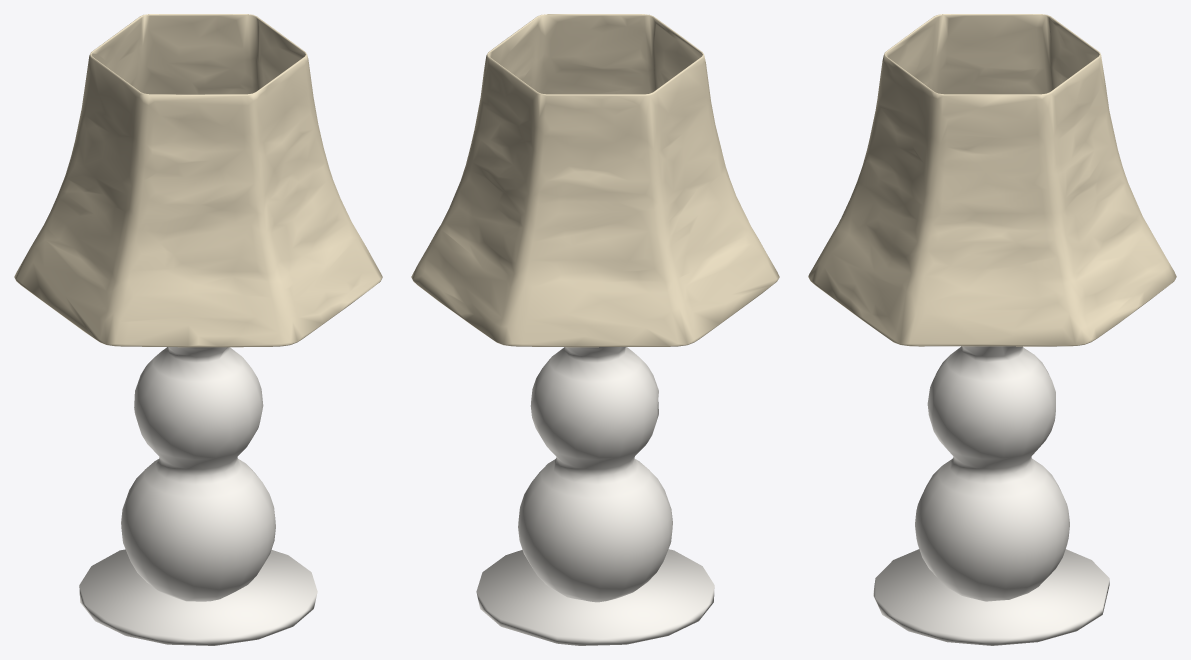
File: lamp.glb
3 views of the same model, side by side, from view 1: azimuth 30°, elevation 25°; view 2: azimuth 150°, elevation 25°; view 3: azimuth 270°, elevation 25° (orthographic).
Visible parts, largest first — view 1: shade, base; view 2: shade, base; view 3: shade, base.
Boxes of the visible parts, box(x1,y1,x2,y2) form: shade: box(14, 14, 382, 347); base: box(79, 347, 317, 645); shade: box(411, 14, 779, 347); base: box(476, 347, 714, 645); shade: box(808, 14, 1176, 346); base: box(873, 346, 1109, 645).
Size of the model in its own units: 0.3666 by 0.6738 by 0.4156.
